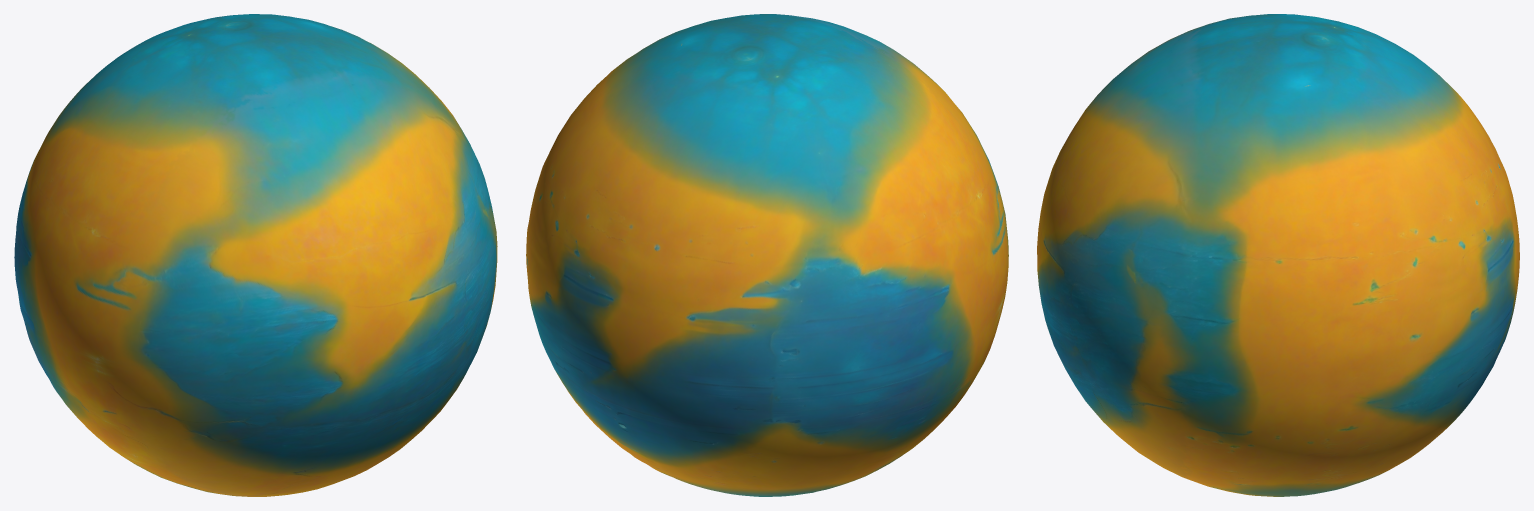
The model's file is A_rolling_boulder_ap_0926181957_texture.fbx.
The picture shows the model from 3 angles, left to right: view 1: azimuth 30°, elevation 25°; view 2: azimuth 150°, elevation 25°; view 3: azimuth 270°, elevation 25°; orthographic projection.
Visible parts, largest first — view 1: Mesh0; view 2: Mesh0; view 3: Mesh0.
Part boxes in pixels (left/top/right/bottom): Mesh0: left=14, top=14, right=497, bottom=496; Mesh0: left=526, top=14, right=1008, bottom=496; Mesh0: left=1037, top=14, right=1519, bottom=496.
Size of the model in its own units: 191 by 191 by 191.
Materials: 1 (1 with a texture image).
